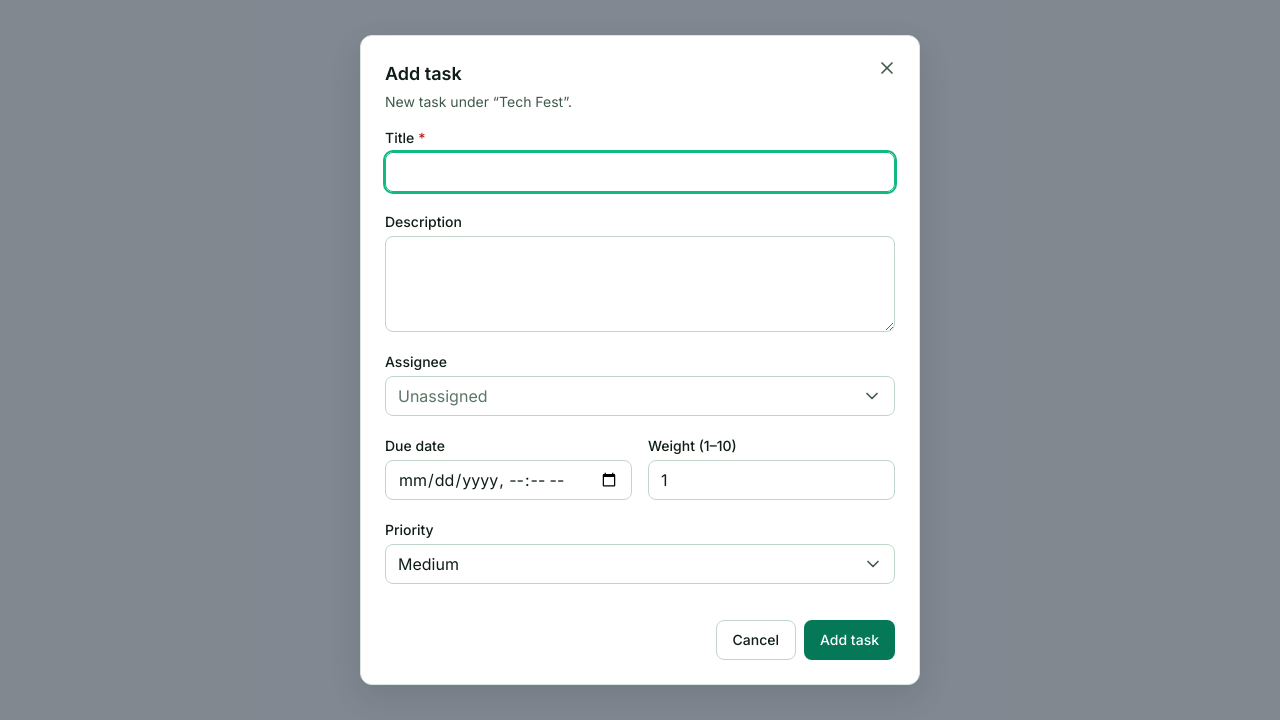
Test: NodeFormDialog: add › refuses a half-filled due date
Type "x" into the field labelled "Title*". click: (640,172)
box: [385,152,895,192]
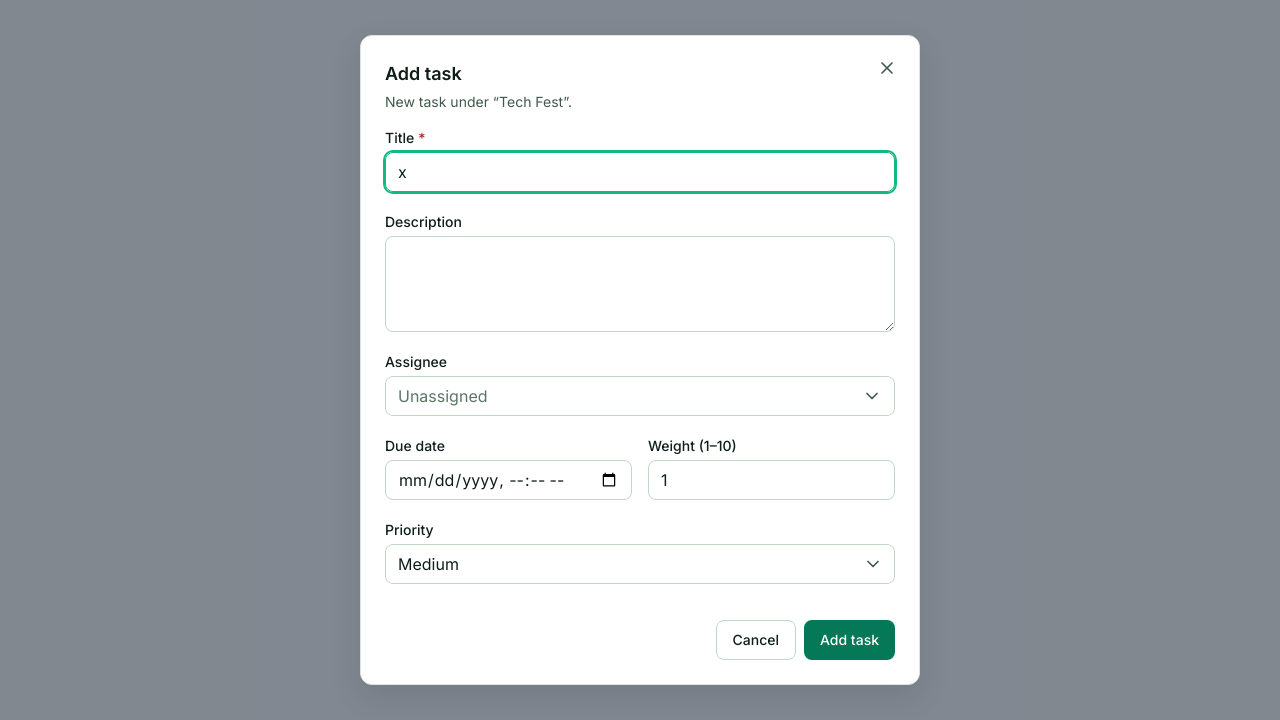
Click the button "Add task". click: (850,640)
box: [804,620,895,660]
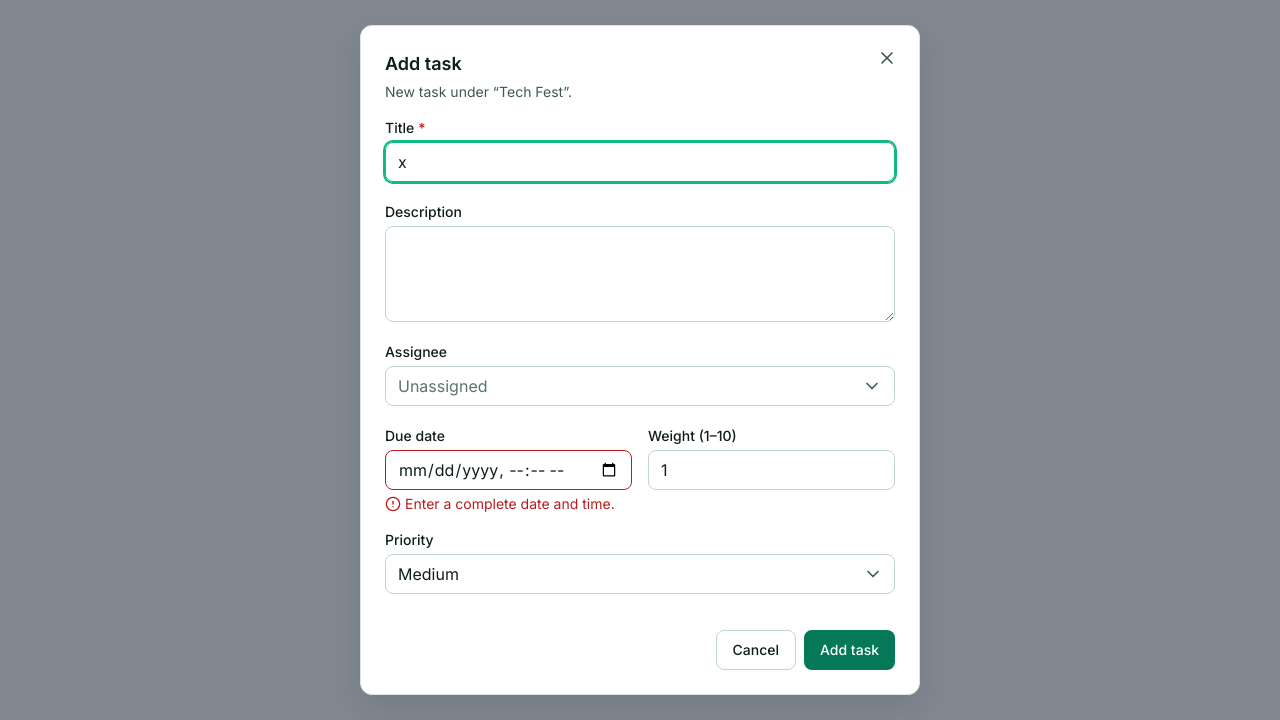
Expected: the text "Enter a complete date and time." is shown, [385,494,632,514]
